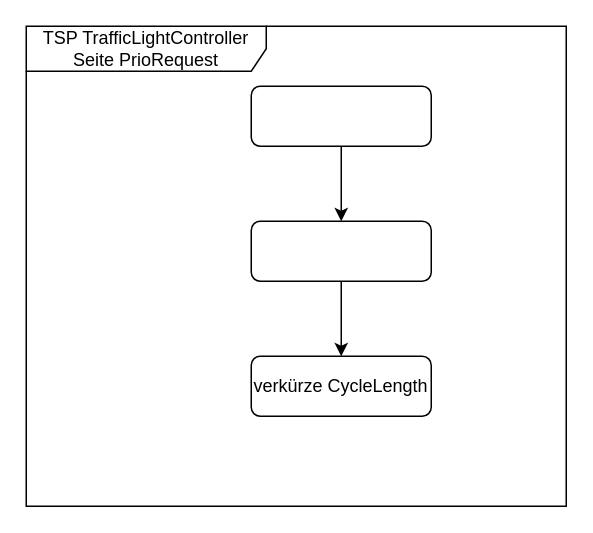
Some shapes in this 593 by 533 pixel diagram are drawn without their labels. Here are the shapes that lost their labels. From the top down, the centre of each, then its label:
[340,115]: priority request wird aufgerufen
[340,250]: speichere ursprüngliche CycleLength
